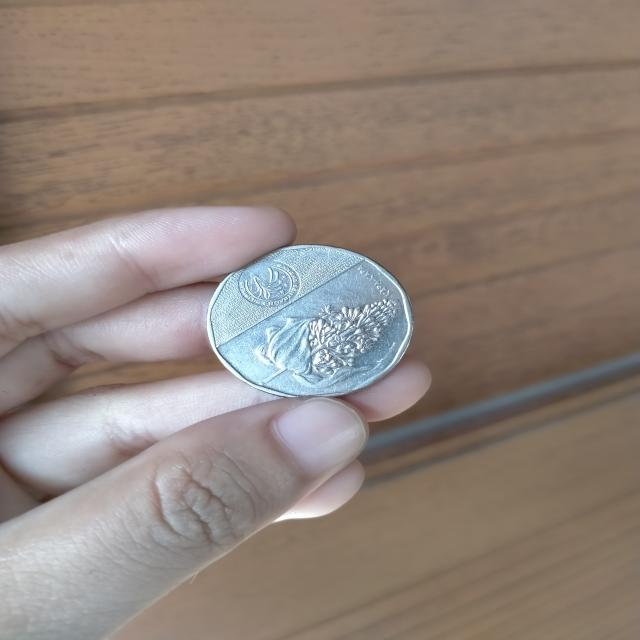10_New_Back: (248, 286, 404, 397)
